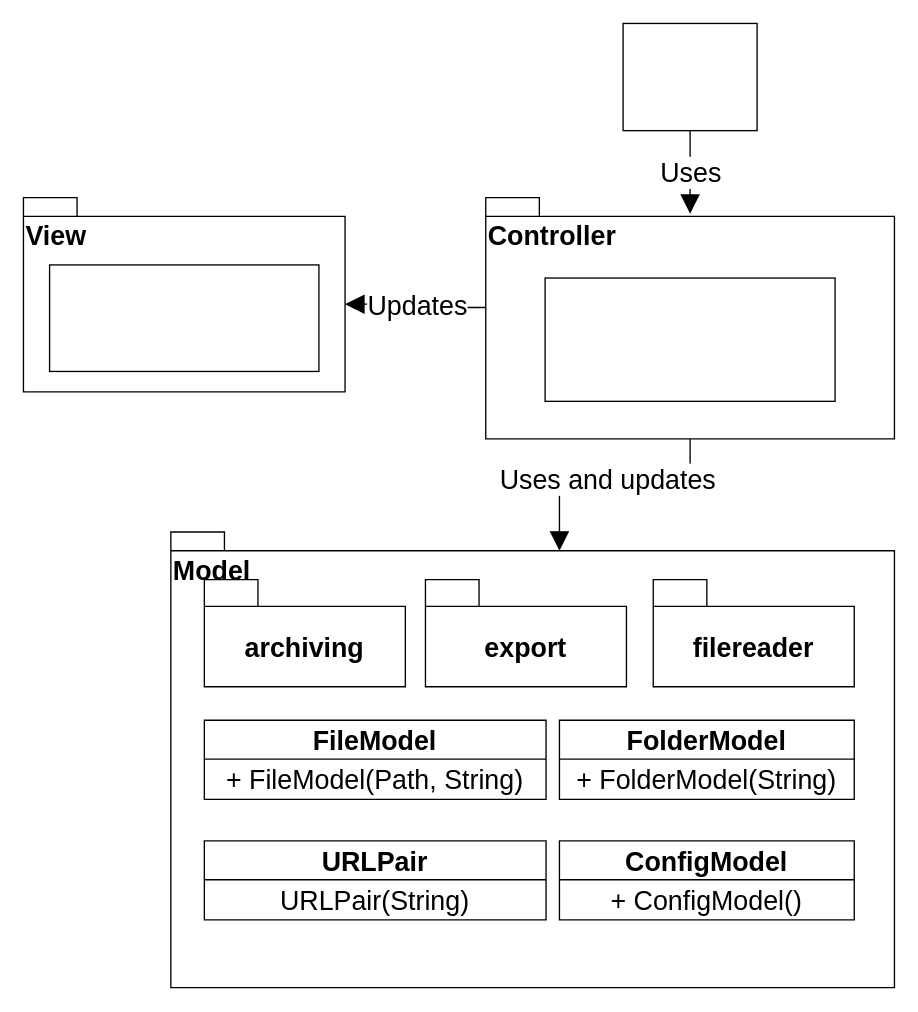
This 918x1012 diagram has some shape labels left out. The shapes that lost their labels are listed below. From the top down, each one's box as (x1, y1, x2, y2) in pixels, then its label:
(622, 22, 757, 131): Main + Main()
(48, 264, 319, 371): ConsoleView + ConsoleView(Locale)
(544, 277, 835, 401): CLIController + CLIController(Locale)
